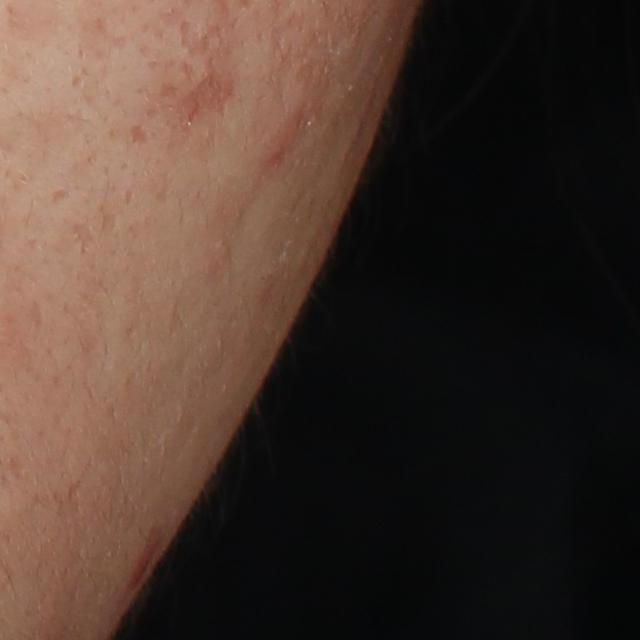atrophic_scar: (95, 201, 121, 241), (71, 221, 98, 256), (30, 295, 49, 341), (130, 123, 151, 145), (158, 82, 181, 100), (52, 187, 73, 205)
